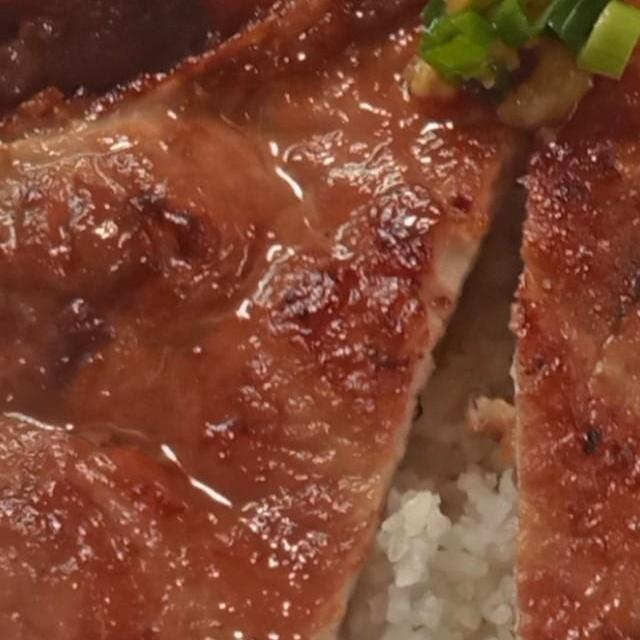com: (46, 215, 640, 640)
com suon bi cha trung: (0, 0, 640, 640)
suon: (0, 0, 640, 640)
